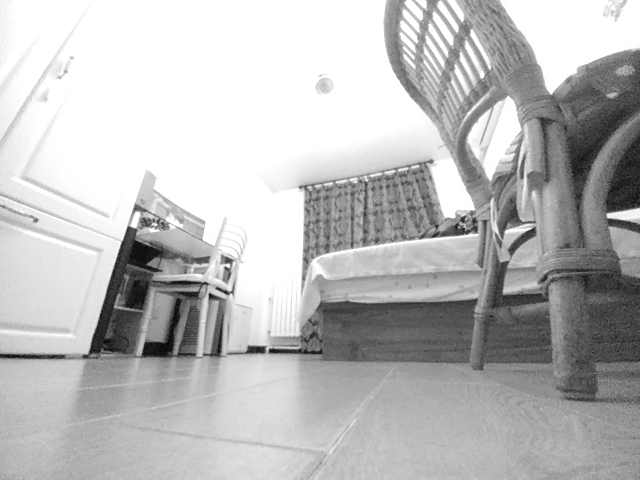curtain: (303, 182, 324, 352)
